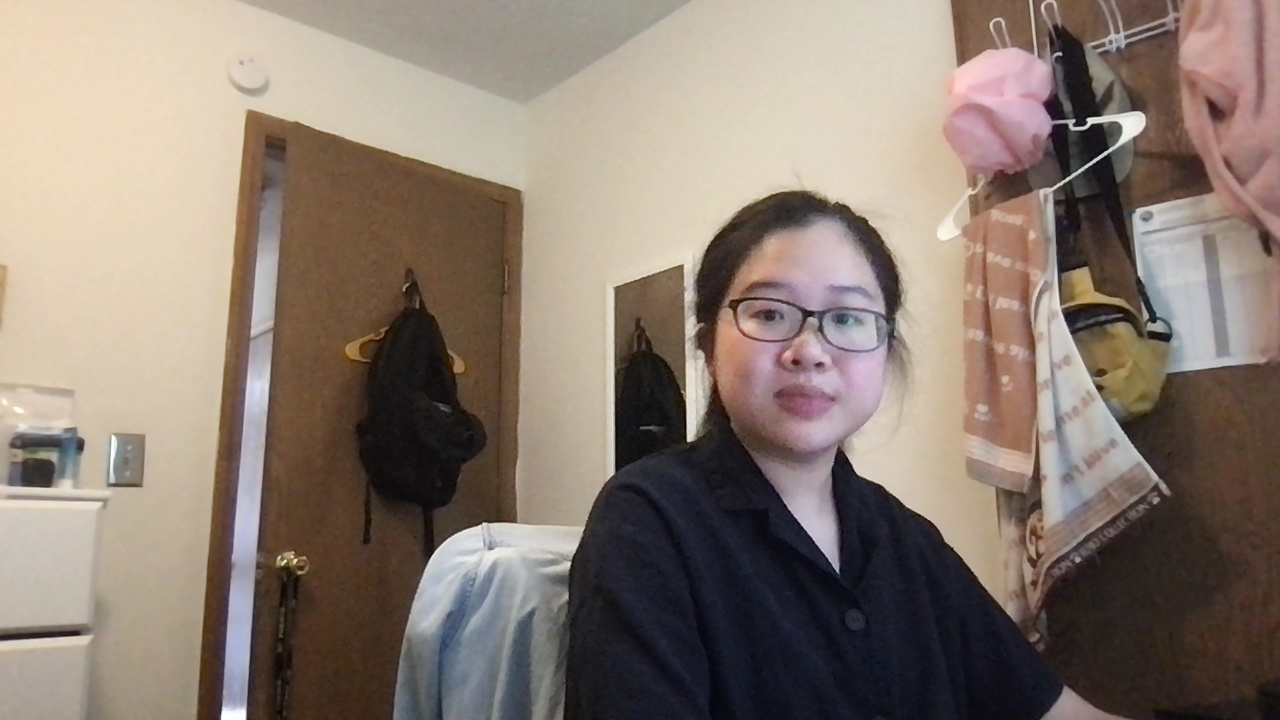NoMask: (708, 332, 910, 458)
